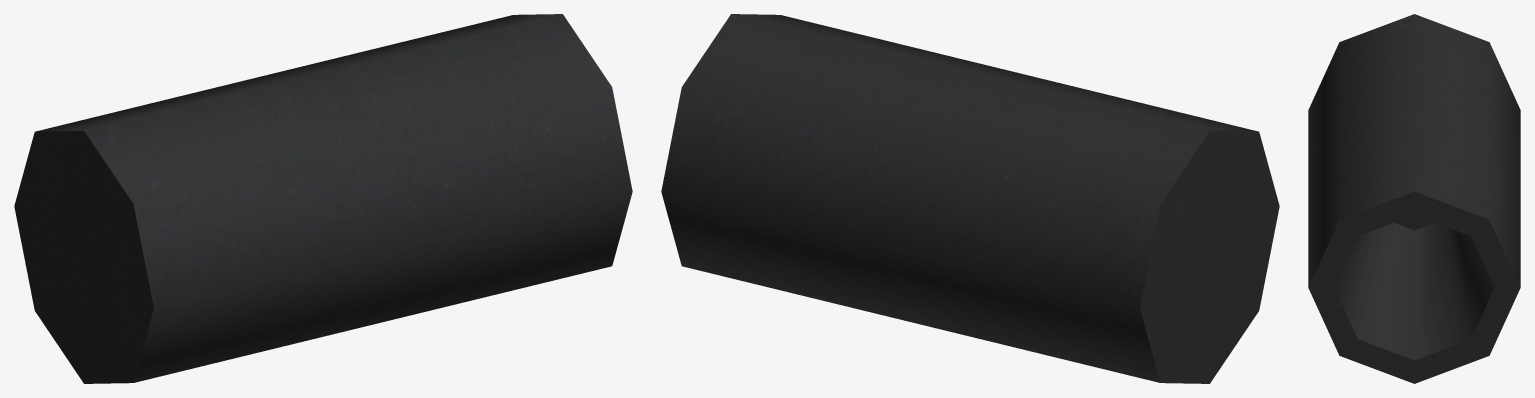
File: Compensator.dae
The picture shows the model from 3 angles, left to right: view 1: azimuth 30°, elevation 25°; view 2: azimuth 150°, elevation 25°; view 3: azimuth 270°, elevation 25°; orthographic projection. The views are drawn at different scales.
Visible parts, largest first — view 1: Compensator; view 2: Compensator; view 3: Compensator.
Part boxes in pixels (left/top/right/bottom): Compensator: left=14, top=14, right=632, bottom=383; Compensator: left=661, top=14, right=1279, bottom=383; Compensator: left=1308, top=14, right=1520, bottom=383.
Bounding box in the file's own units: 0.0432 × 0.0218 × 0.0218.
1 material, 1 textured.
